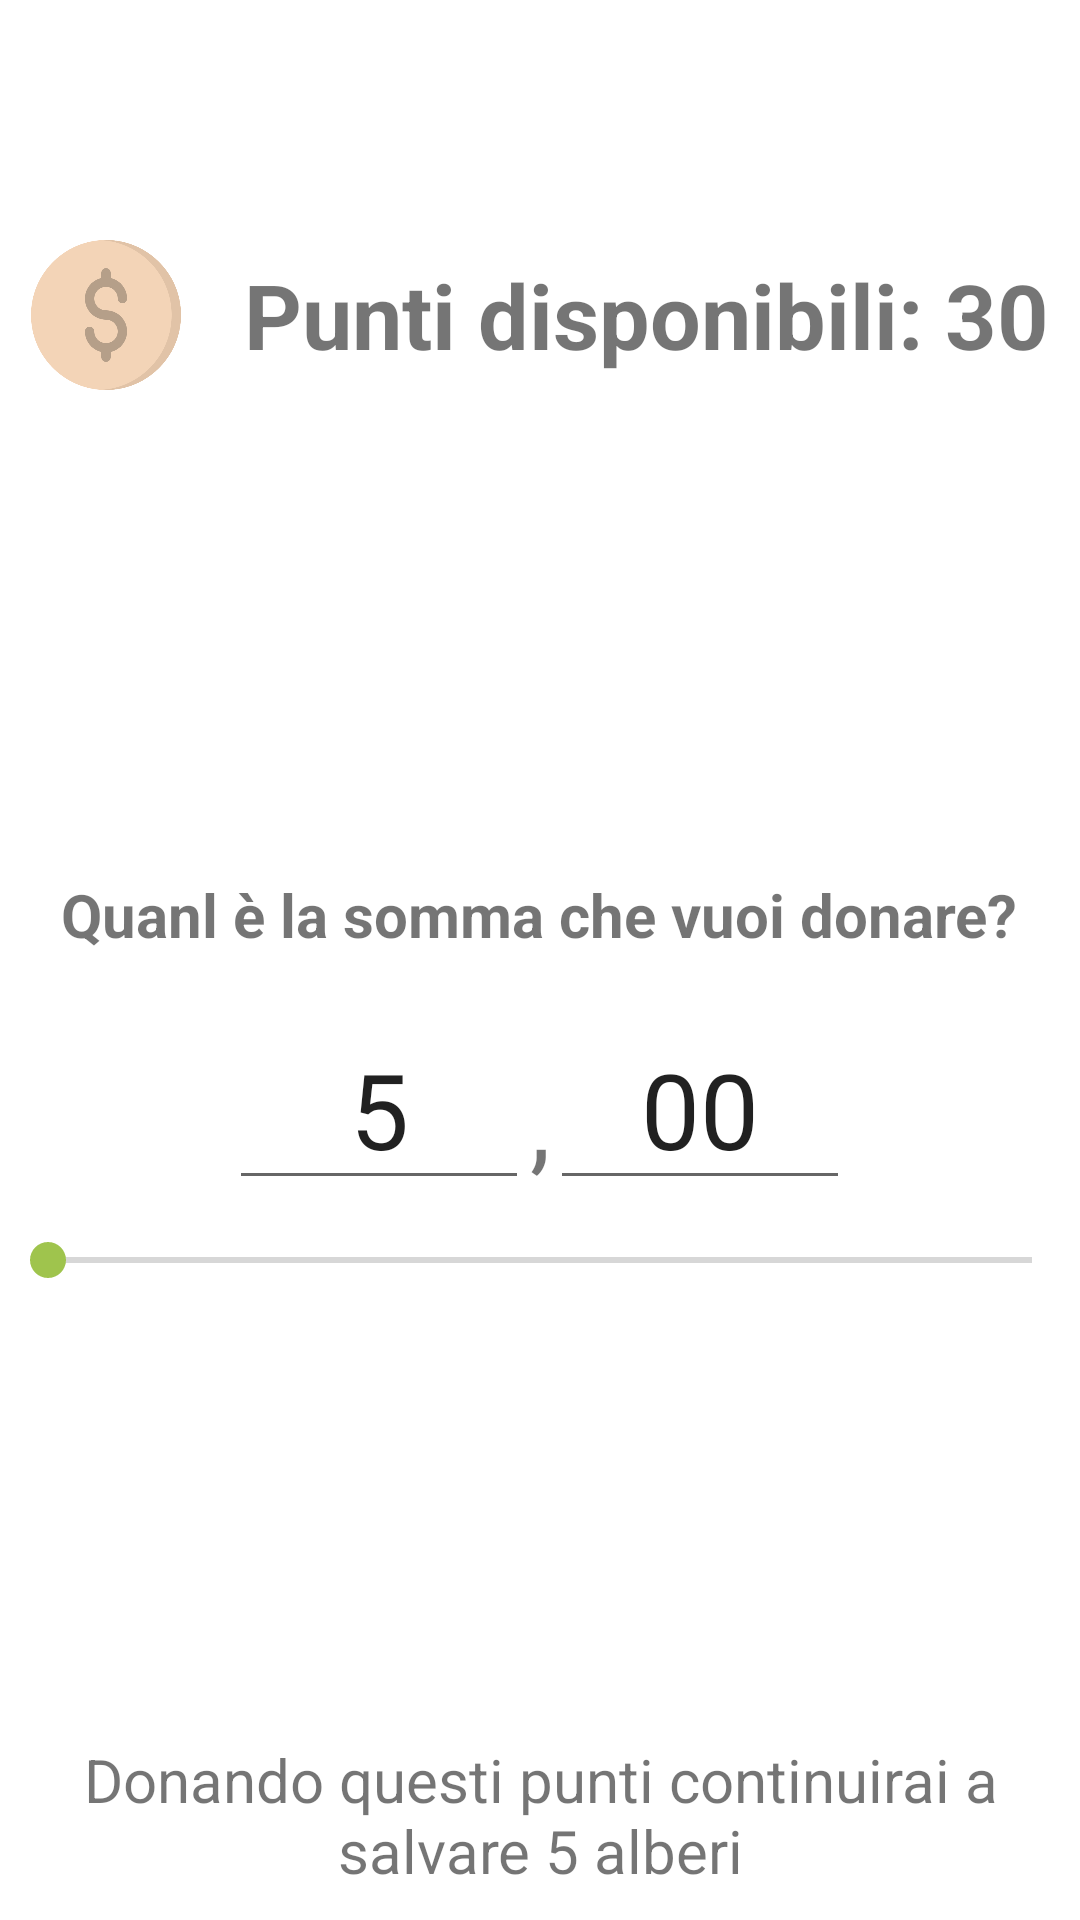

Named icons in this screenshot (1080x1920) and their bounding boxes, [x1, y1, x2, y2]:
dollardonation: [31, 240, 181, 390]
